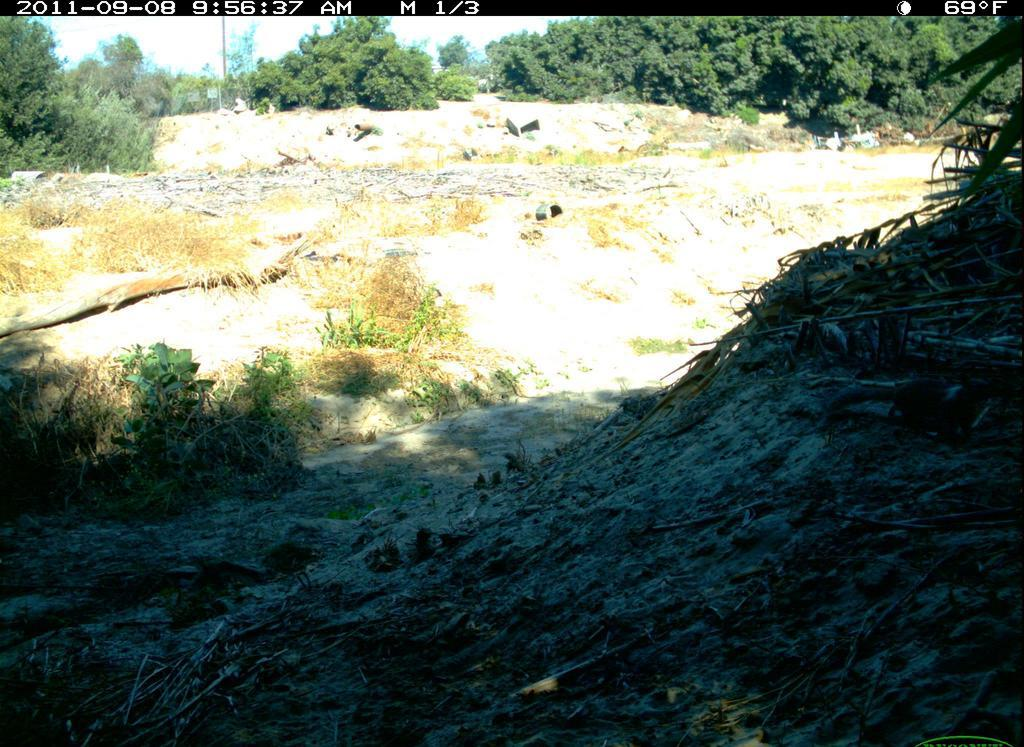squirrel: (822, 369, 997, 442)
